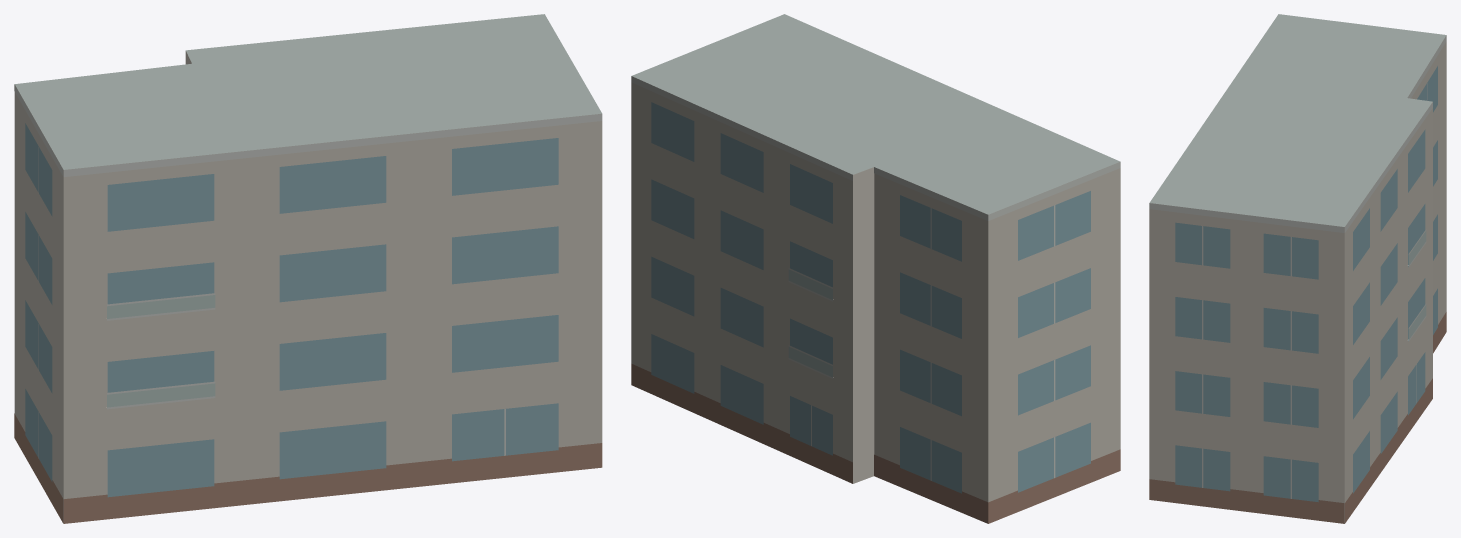
Rendered from survey-upis-32514158.glb.
3 renders of one model, left to right at view 1: azimuth 30°, elevation 25°; view 2: azimuth 150°, elevation 25°; view 3: azimuth 270°, elevation 25°, orthographic. The views are drawn at different scales.
Parts seen in each view (by area): view 1: survey-upis-32514158.tmp; view 2: survey-upis-32514158.tmp; view 3: survey-upis-32514158.tmp.
Boxes of the visible parts, x1=… form: survey-upis-32514158.tmp: x1=14, y1=14, x2=602, y2=523; survey-upis-32514158.tmp: x1=631, y1=14, x2=1120, y2=523; survey-upis-32514158.tmp: x1=1149, y1=14, x2=1446, y2=523.
Bounding box in the file's own units: 18.33 × 11.9 × 10.81.
